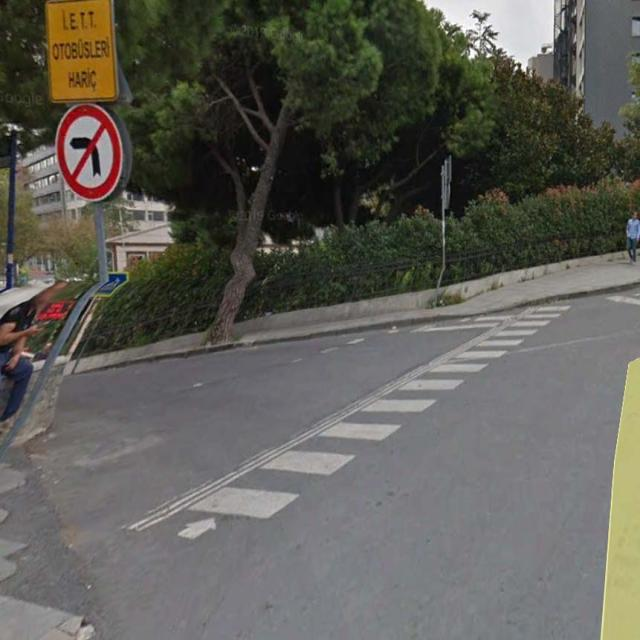soladonulmez: (54, 102, 121, 203)
